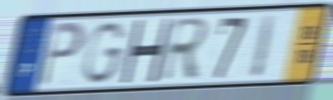7: (212, 16, 250, 81)
G: (81, 20, 129, 86)
H: (118, 18, 174, 84)
I: (248, 12, 280, 81)
P: (36, 20, 86, 89)
R: (159, 15, 212, 84)
